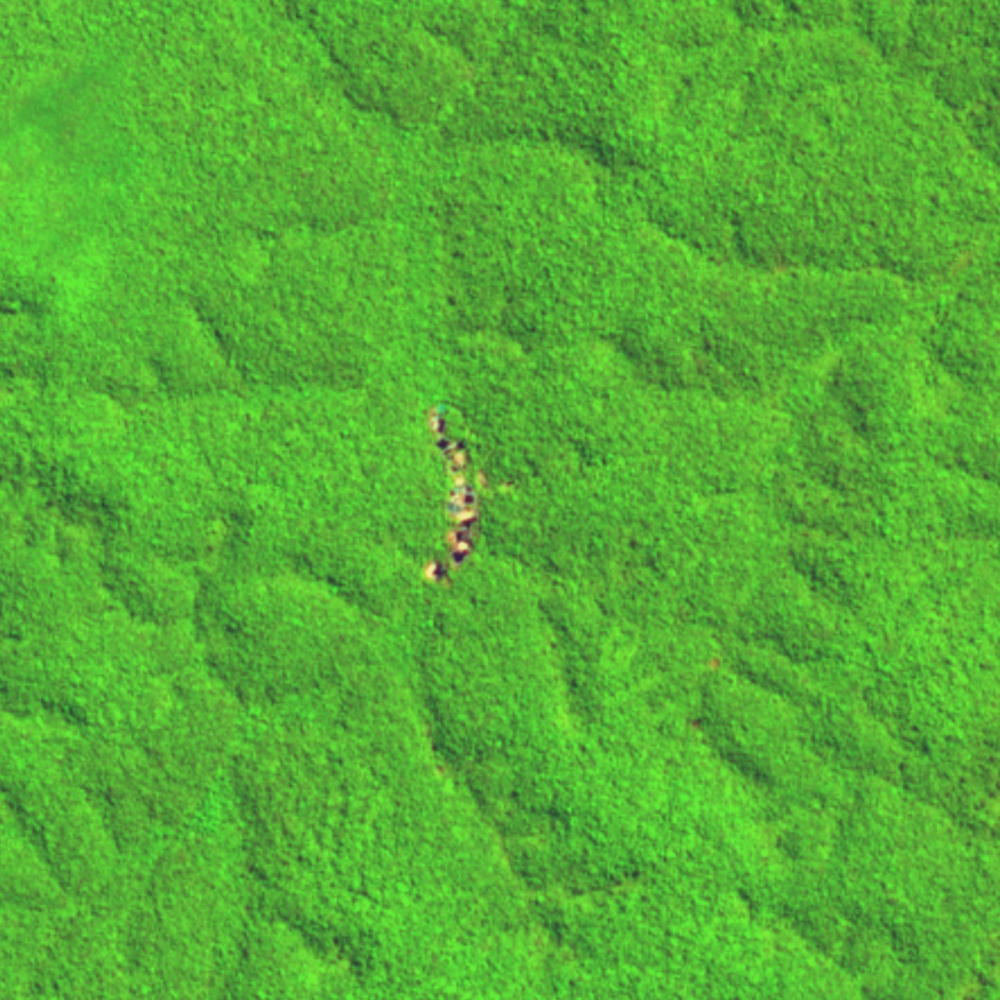illegal: (419, 400, 520, 591), (687, 655, 726, 738)
